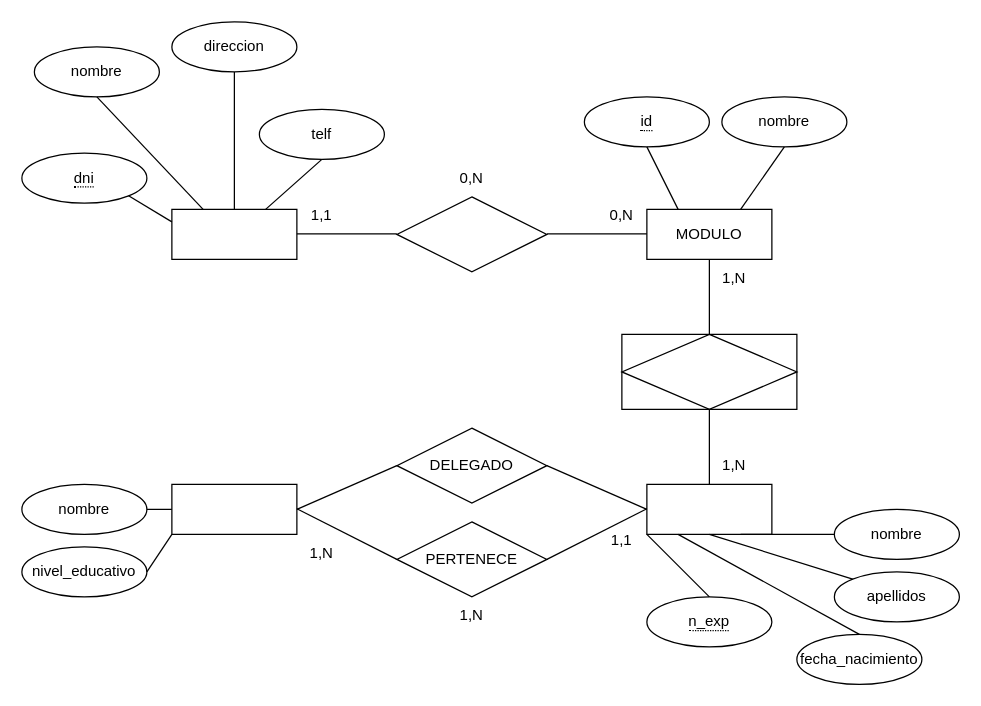
Image size: 981x706. Some labels were removed from this diagram. The shapes that lost their labels are listed below. From the top down, each one's box as (x1, y1, x2, y2) in pixels, then its label:
(171, 208, 297, 259): PROFESOR
(396, 196, 547, 272): DA
(621, 333, 797, 409): MATRICULADO
(171, 483, 297, 534): GRUPO
(646, 483, 772, 534): ALUMNO
